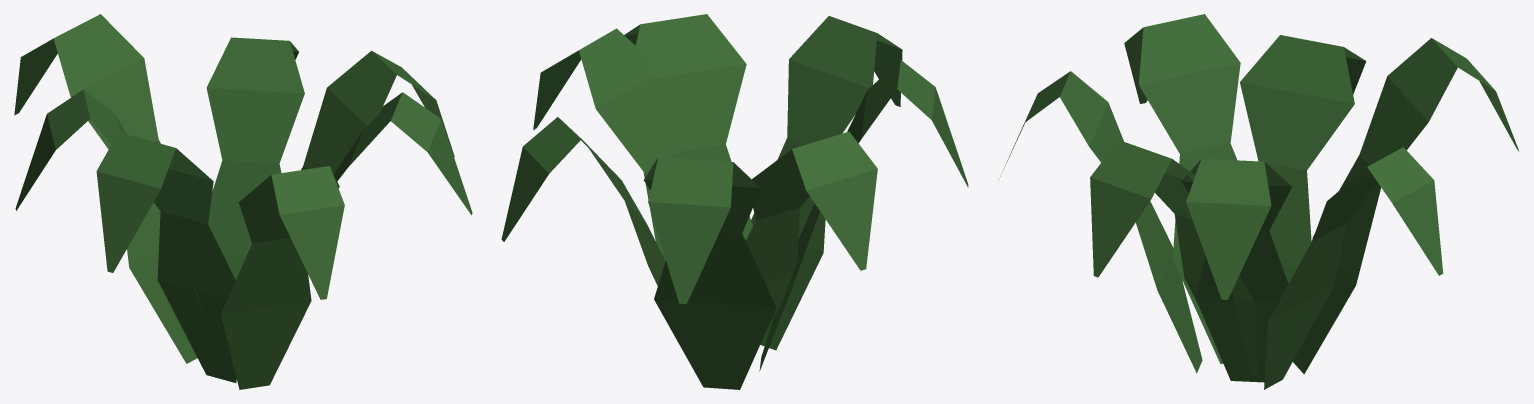
3 renders of one model, left to right at view 1: azimuth 30°, elevation 25°; view 2: azimuth 150°, elevation 25°; view 3: azimuth 270°, elevation 25°, orthographic.
Parts seen in each view (by area): view 1: 草_02; view 2: 草_02; view 3: 草_02.
Boxes of the visible parts, bbox=[...] form: 草_02: bbox=[14, 14, 472, 389]; 草_02: bbox=[501, 14, 968, 389]; 草_02: bbox=[1000, 14, 1519, 389].
Bounding box in the file's own units: 1.05 × 0.7649 × 1.23.
